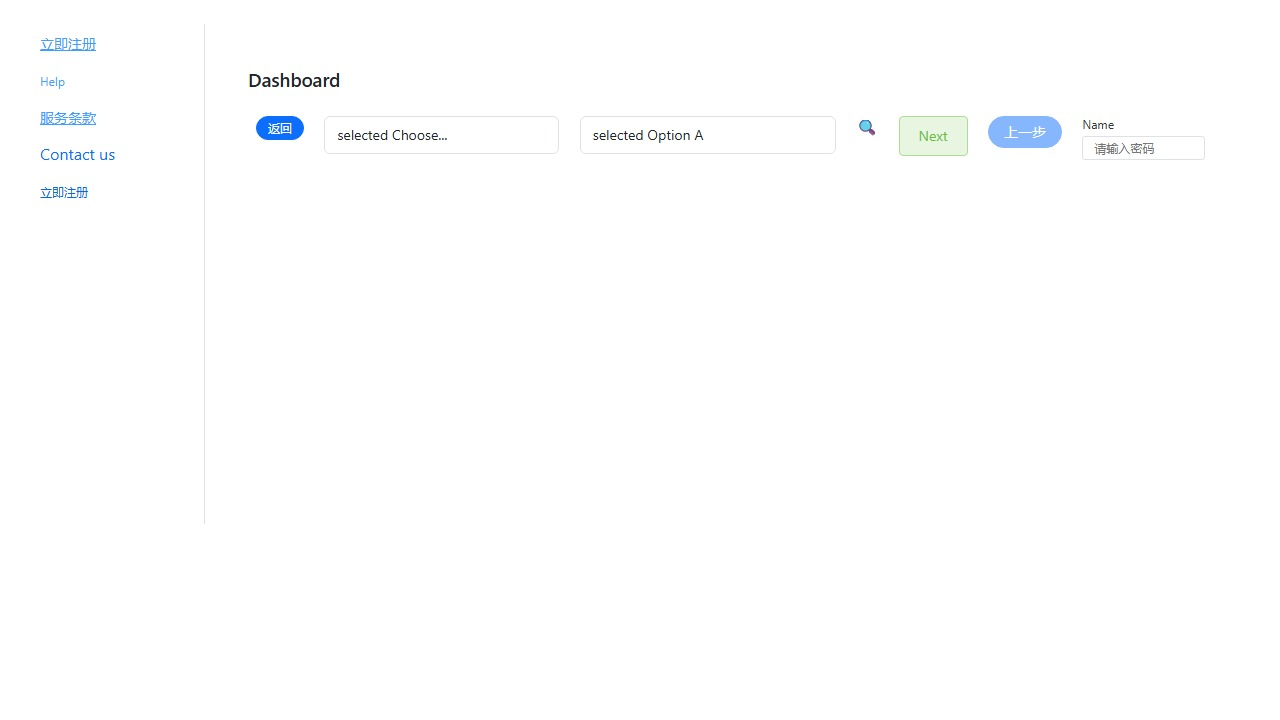button: (899, 116, 967, 156), (988, 116, 1062, 148), (256, 116, 304, 140)
icon: (856, 119, 878, 135)
input: (1082, 136, 1205, 160)
link: (40, 143, 115, 164), (40, 34, 96, 53), (40, 108, 96, 127), (40, 184, 88, 200), (40, 73, 65, 89)
select: (580, 116, 836, 154), (324, 116, 559, 154)
